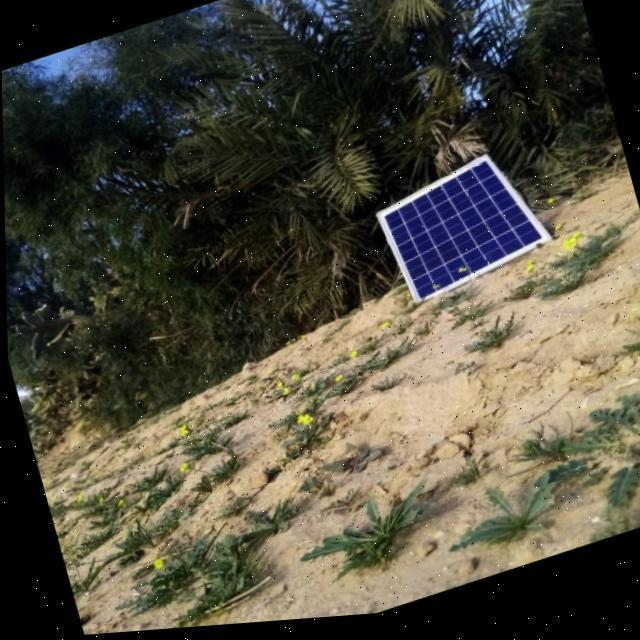Normal Solar Panel: (370, 149, 554, 314)
